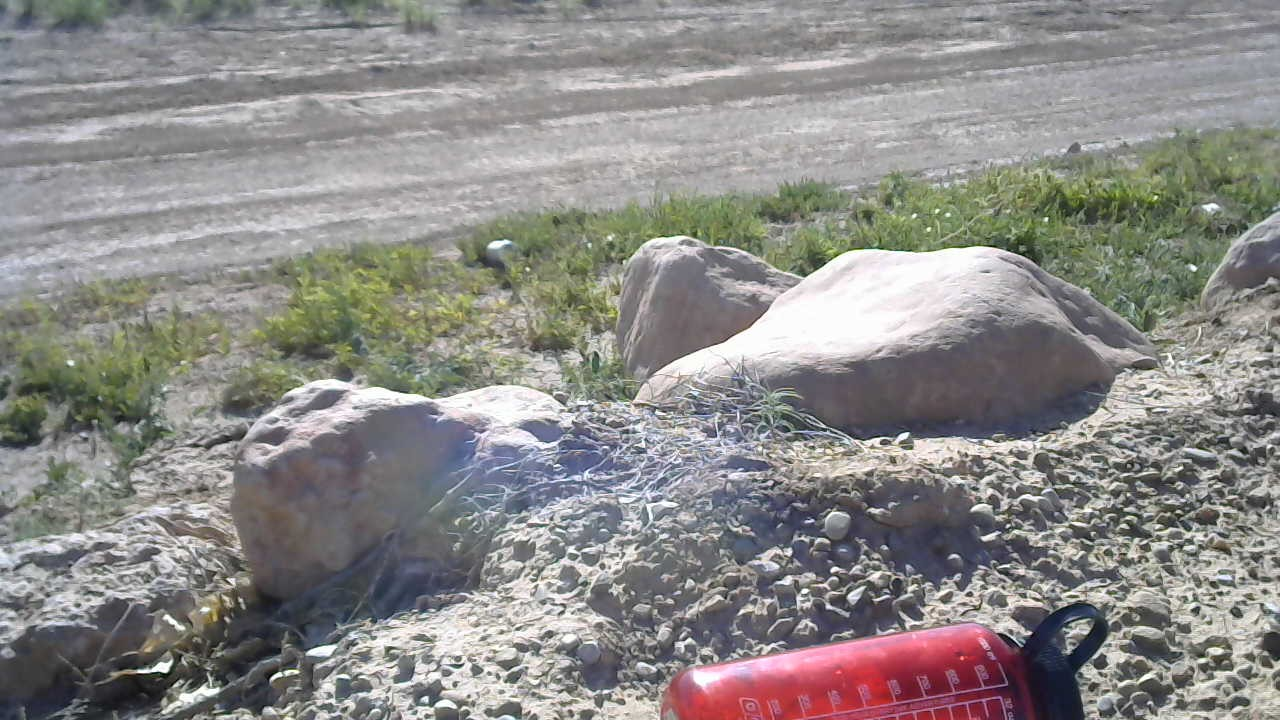bottle: (655, 598, 1118, 720)
